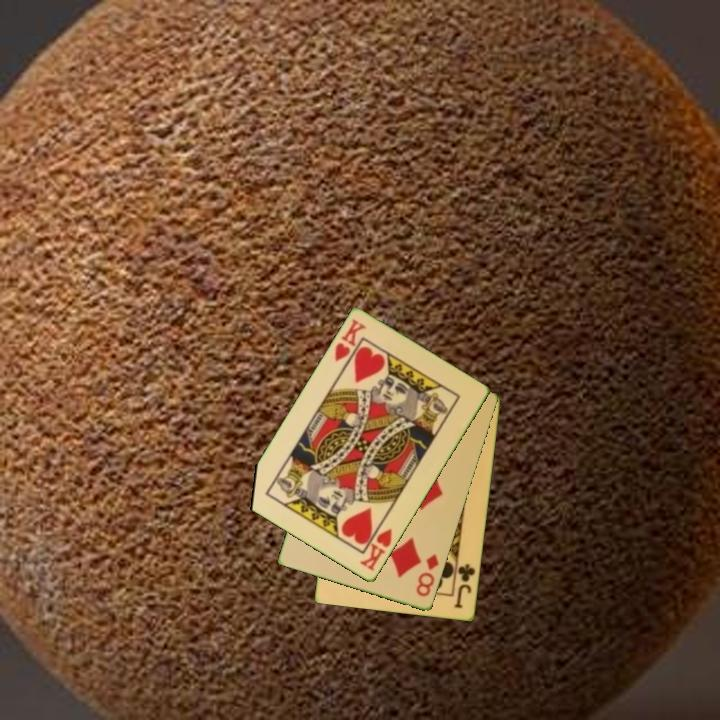8d: (413, 550, 442, 600)
Jc: (451, 560, 478, 612)
Kh: (356, 518, 395, 574), (331, 316, 369, 371)
